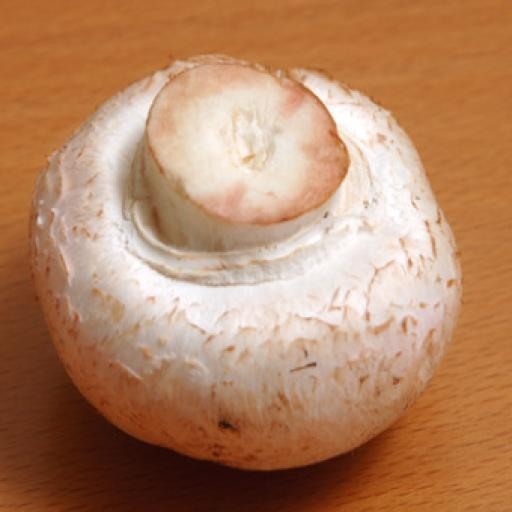mushroom: (25, 44, 469, 473)
